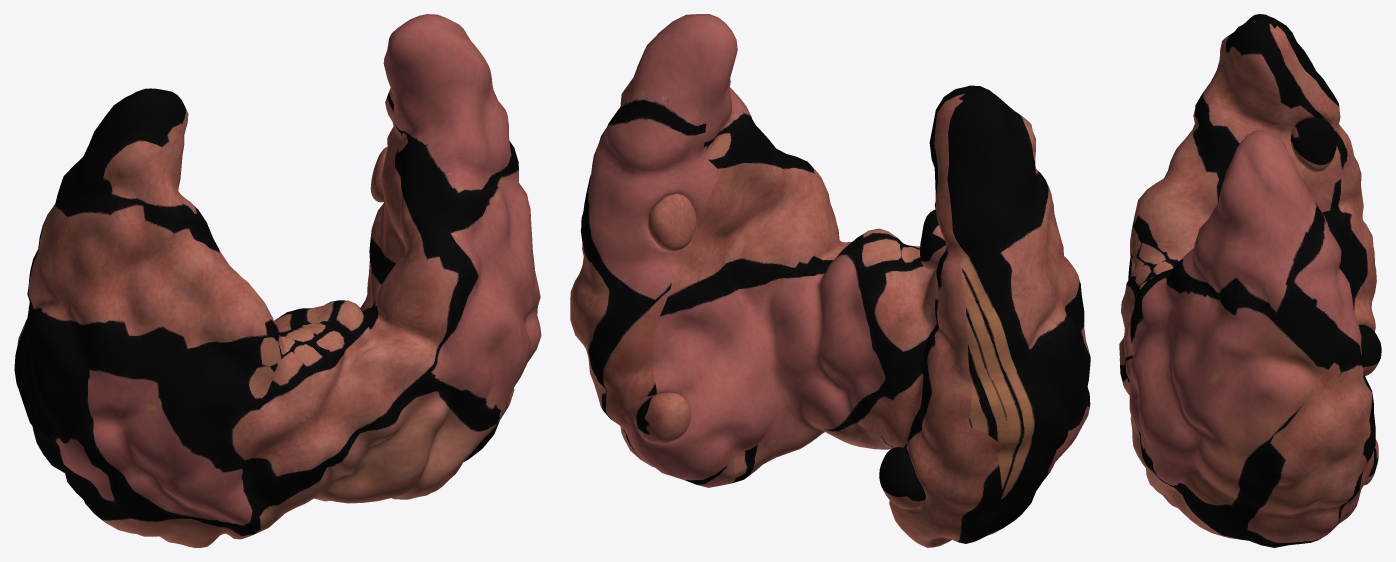
Rendered from Endocrine.Thyroid_gland.Thyroid.obj.
3 renders of one model, left to right at view 1: azimuth 30°, elevation 25°; view 2: azimuth 150°, elevation 25°; view 3: azimuth 270°, elevation 25°, orthographic. The views are drawn at different scales.
Visible parts, largest first — view 1: Endocrine:Thyroid_gland:Thyroid_Thyroid_gland.003; view 2: Endocrine:Thyroid_gland:Thyroid_Thyroid_gland.003; view 3: Endocrine:Thyroid_gland:Thyroid_Thyroid_gland.003.
Boxes of the visible parts, x1,y1,x2,y2 form: Endocrine:Thyroid_gland:Thyroid_Thyroid_gland.003: (14, 14, 541, 547); Endocrine:Thyroid_gland:Thyroid_Thyroid_gland.003: (570, 14, 1090, 547); Endocrine:Thyroid_gland:Thyroid_Thyroid_gland.003: (1119, 14, 1381, 547).
Size of the model in its own units: 0.2905 by 0.2636 by 0.1486.
